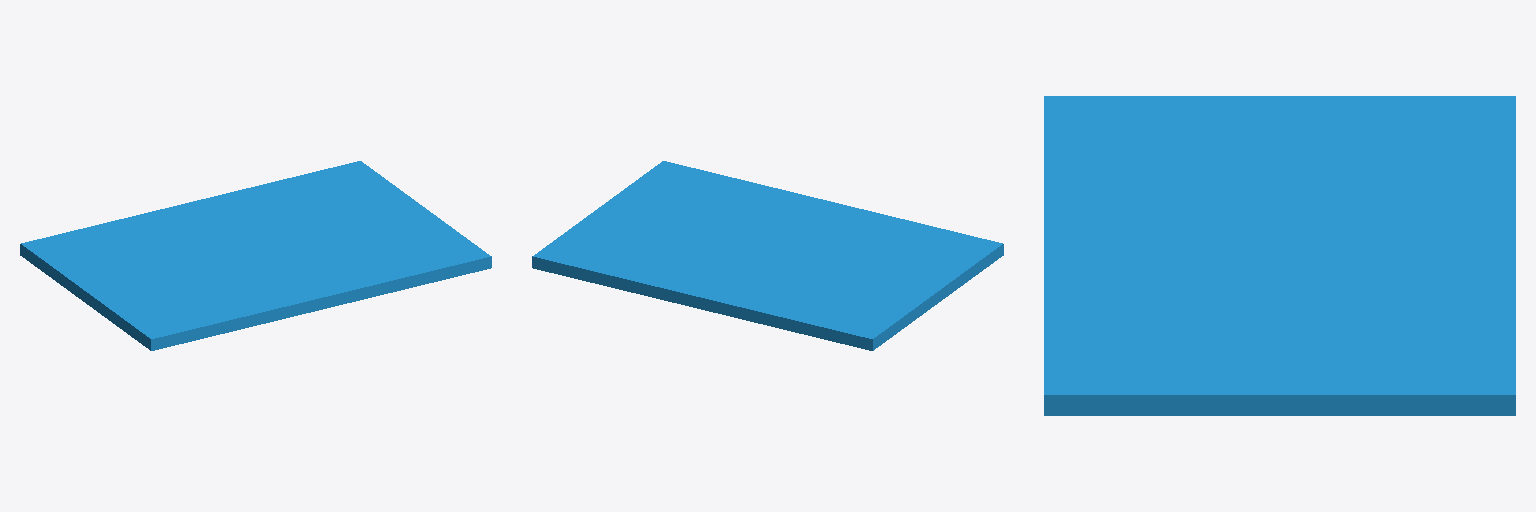
URDF robot description (table.urdf):
<?xml version="1.0" ?>
<robot name="table.urdf">

  <material name="WoodBrown">
    <color rgba="1.0 0.9 0.75 1.0"/>
  </material>
  <material name="ButterflyBlue">
    <color rgba="0.219 0.675 0.925  1.0"/>
  </material>
  <link name="baseLink">
    <contact>
      <lateral_friction value="1.0"/>
    </contact>

    <inertial>
      <origin rpy="0 0 0" xyz="0 0 0"/>
       <mass value=".0"/>
       <inertia ixx="1" ixy="0" ixz="0" iyy="1" iyz="0" izz="1"/>
    </inertial>

    <visual>
      <origin rpy="0 0 0" xyz="0 0 0.09"/>
      <geometry>
				<!-- <mesh filename="table.obj" scale="1.5 1 0.05"/> -->
        <box size="0.6 0.4 0.02"/>
      </geometry>
       <material name="ButterflyBlue"/>
    </visual>

    <collision>
    <!-- 0.09 is the position height, the 0.02 is the height of the desk board -->
      <origin rpy="0 0 0" xyz="0 0 0.09"/>
      <geometry>
        <box size="1 0.5 0.02"/>
      </geometry>
    </collision>

	  <!-- <visual>
      <origin rpy="0 0 0" xyz="-0.65 -0.4 0.29"/>
      <geometry>
        <box size="0.1 0.1 0.58"/>
      </geometry>
      <material name="WoodBrown"/>
    </visual>

    <visual>
      <origin rpy="0 0 0" xyz="-0.65 0.4 0.29"/>
      <geometry>
        <box size="0.1 0.1 0.58"/>
      </geometry>
      <material name="WoodBrown"/>
	  </visual>

    <visual>
      <origin rpy="0 0 0" xyz="0.65 -0.4 0.29"/>
      <geometry>
        <box size="0.1 0.1 0.58"/>
      </geometry>
      <material name="WoodBrown"/>
	  </visual>

    <visual>
      <origin rpy="0 0 0" xyz="0.65 0.4 0.29"/>
      <geometry>
        <box size="0.1 0.1 0.58"/>
      </geometry>
      <material name="WoodBrown"/>
    </visual> -->

  </link>
</robot>

--- Render facts (derived) ---
3 views of the same robot in one strip: view 1: azimuth 30°, elevation 25°; view 2: azimuth 150°, elevation 25°; view 3: azimuth 270°, elevation 25° (orthographic).
Robot: table.urdf — 1 links, 0 joints (none); root link baseLink; default pose: all joints at 0.
Links seen in each view (by area): view 1: baseLink; view 2: baseLink; view 3: baseLink.
Boxes of the visible links, <box> form: baseLink: <box>20,161,491,350</box>; baseLink: <box>532,161,1003,350</box>; baseLink: <box>1044,96,1515,415</box>.
Bounding box of the posed robot: 0.6 × 0.4 × 0.02 m (x, y, z).
Geometry: primitives only (box / cylinder / sphere), no mesh files.
